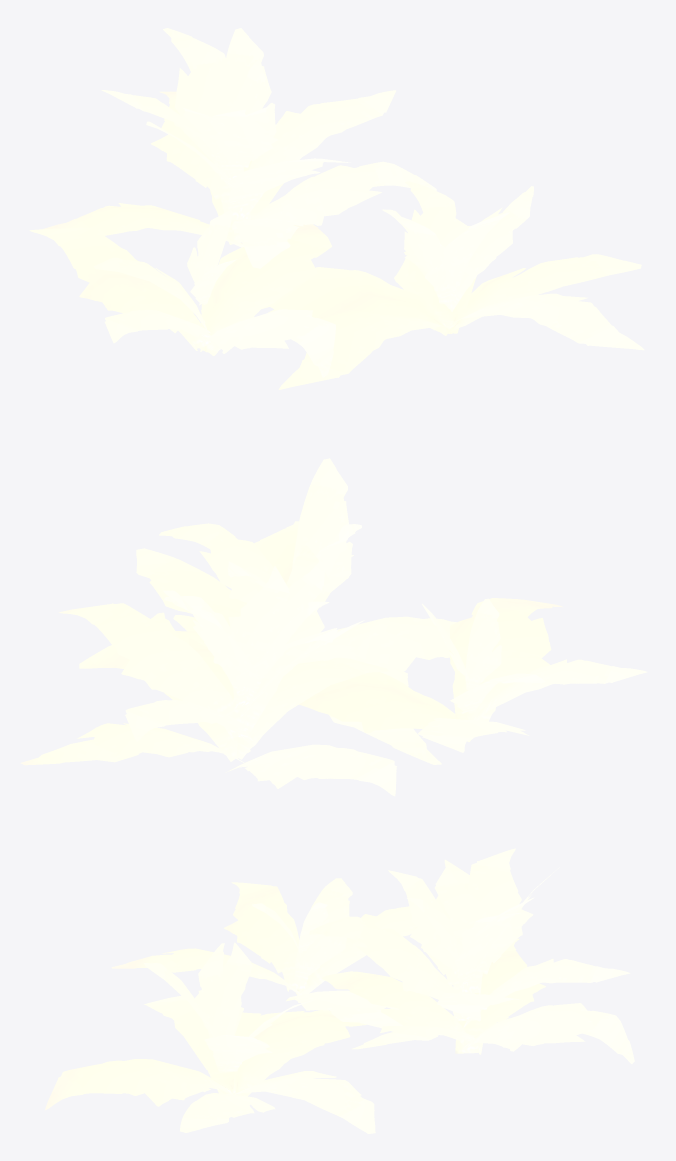
3 views of the same model, one above another, from view 1: azimuth 30°, elevation 25°; view 2: azimuth 150°, elevation 25°; view 3: azimuth 270°, elevation 25° (orthographic). The views are drawn at different scales.
Visible parts, largest first — view 1: SM_DR_Fox_Glove_04_LOD0; view 2: SM_DR_Fox_Glove_04_LOD0; view 3: SM_DR_Fox_Glove_04_LOD0.
Boxes of the visible parts, x1=… form: SM_DR_Fox_Glove_04_LOD0: x1=29, y1=28, x2=644, y2=389; SM_DR_Fox_Glove_04_LOD0: x1=20, y1=458, x2=647, y2=796; SM_DR_Fox_Glove_04_LOD0: x1=45, y1=848, x2=634, y2=1133.
Bounding box in the file's own units: 0.6884 × 0.2669 × 0.7598.
Materials: 1 (1 with a texture image).
